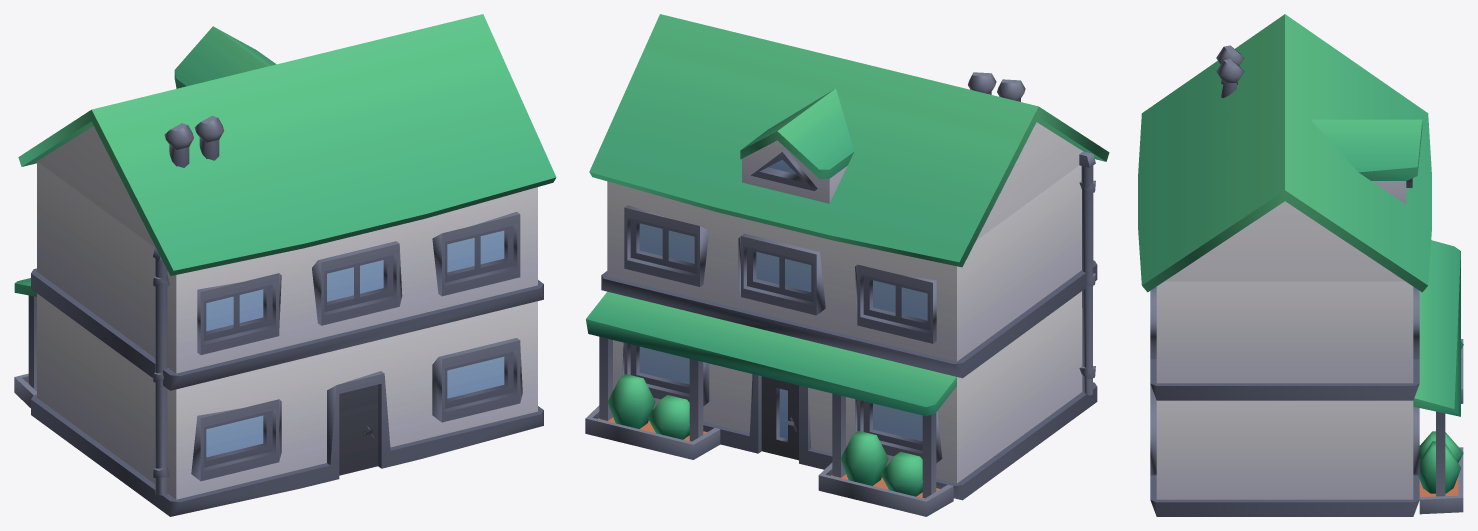
File: 058_city-kit-suburban_building-type-e_card.glb
3 views of the same model, side by side, from view 1: azimuth 30°, elevation 25°; view 2: azimuth 150°, elevation 25°; view 3: azimuth 270°, elevation 25° (orthographic). The views are drawn at different scales.
Visible parts, largest first — view 1: building-type-e; view 2: building-type-e; view 3: building-type-e.
Boxes of the visible parts, x1,y1,x2,y2 form: building-type-e: [14, 14, 556, 516]; building-type-e: [585, 14, 1109, 516]; building-type-e: [1138, 14, 1463, 516].
Bounding box in the file's own units: 1.3 × 1.14 × 1.02.
1 material, 1 textured.
